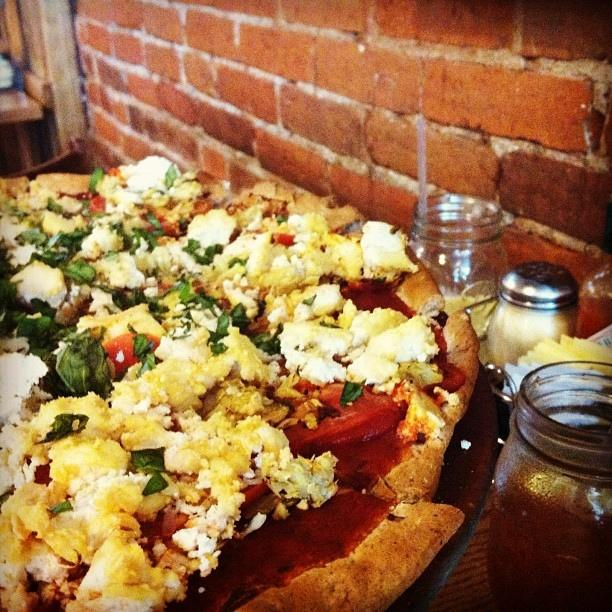tomato: (282, 378, 404, 460), (103, 334, 160, 377), (422, 362, 467, 398), (238, 482, 271, 510), (146, 216, 178, 238), (430, 323, 447, 364), (162, 512, 189, 537), (342, 281, 374, 294), (272, 233, 294, 246), (90, 196, 105, 212)
